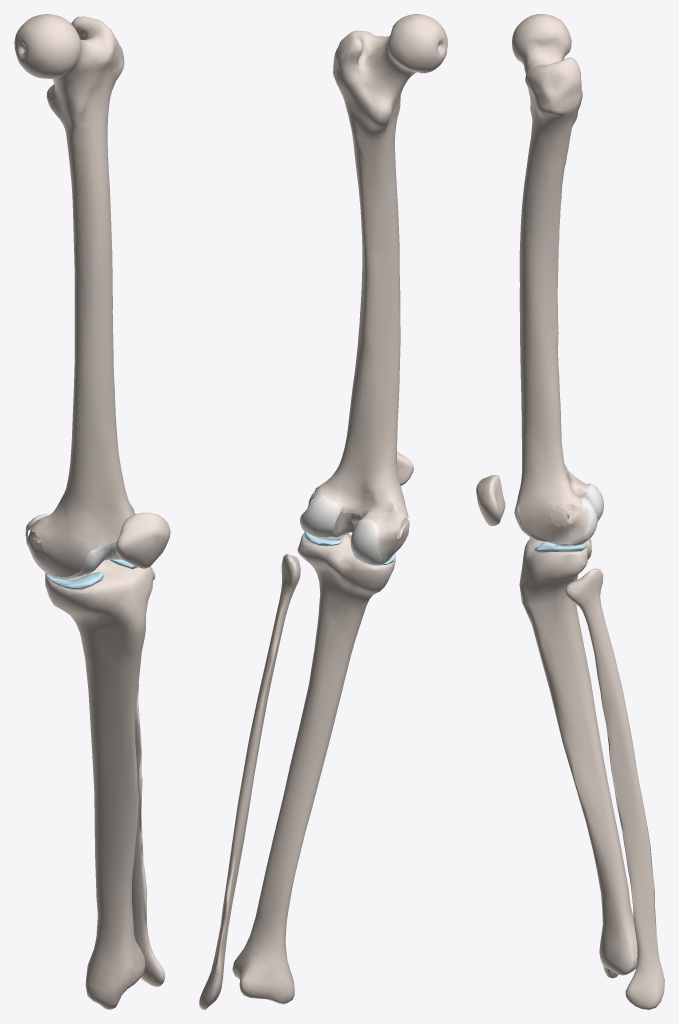
File: vh_m_knee_l-40.glb
3 views of the same model, side by side, from view 1: azimuth 30°, elevation 25°; view 2: azimuth 150°, elevation 25°; view 3: azimuth 270°, elevation 25° (orthographic). The views are drawn at different scales.
Visible parts, largest first — view 1: VH_M_femur_L, VH_M_tibia_L, VH_M_fibula_L, VH_M_patella_L, VH_M_meniscus_L, VH_M_medial_condyle_of_left_femur_sup; view 2: VH_M_femur_L, VH_M_tibia_L, VH_M_fibula_L, VH_M_lateral_condyle_of_femur_inf_L, VH_M_medial_condyle_of_left_femur_inf; view 3: VH_M_femur_L, VH_M_tibia_L, VH_M_fibula_L, VH_M_patella_L, VH_M_articular_cartilage_of_knee_L.
Boxes of the visible parts, <box> form: VH_M_femur_L: <box>14,14,135,577</box>; VH_M_tibia_L: <box>45,560,153,1009</box>; VH_M_fibula_L: <box>132,568,164,986</box>; VH_M_patella_L: <box>115,512,170,568</box>; VH_M_meniscus_L: <box>47,559,137,589</box>; VH_M_medial_condyle_of_left_femur_sup: <box>78,547,110,576</box>; VH_M_femur_L: <box>307,14,447,560</box>; VH_M_tibia_L: <box>232,533,395,1004</box>; VH_M_fibula_L: <box>199,554,300,1009</box>; VH_M_lateral_condyle_of_femur_inf_L: <box>300,496,340,536</box>; VH_M_medial_condyle_of_left_femur_inf: <box>350,519,380,564</box>; VH_M_femur_L: <box>512,14,588,541</box>; VH_M_tibia_L: <box>519,538,637,978</box>; VH_M_fibula_L: <box>565,568,664,1009</box>; VH_M_patella_L: <box>476,475,505,525</box>; VH_M_articular_cartilage_of_knee_L: <box>515,483,590,545</box>.
Bounding box in the file's own units: 0.1735 × 0.8875 × 0.1646.
